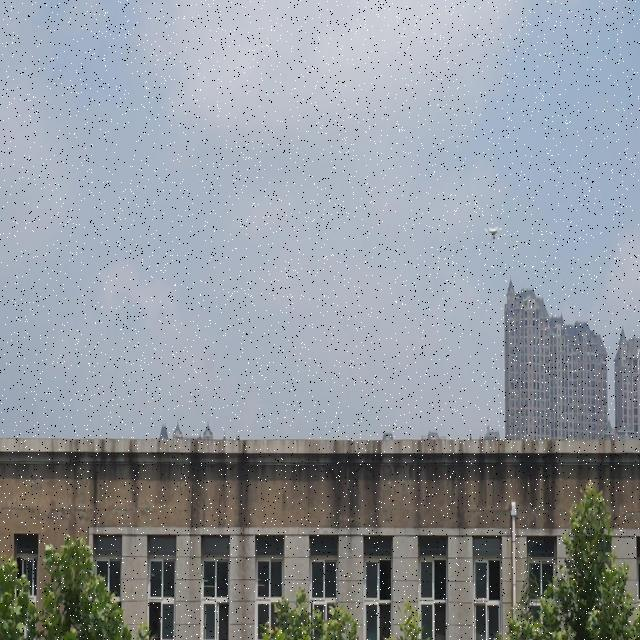UAV: (484, 226, 502, 242)
